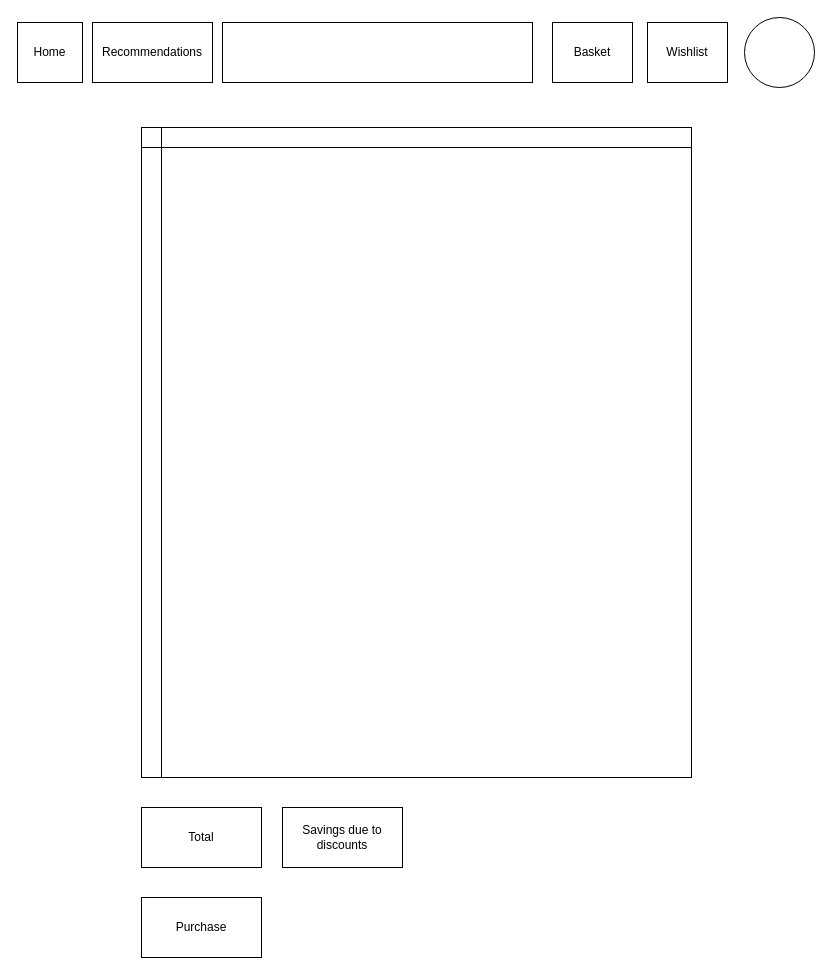
The diagram is 832 pixels wide and 975 high, and some of its shapes have lost their labels. The shapes that lost their labels are listed below. From the top down, each one's centre as x and y in pixels, then its label:
pixel 377 52: Search bar
pixel 779 52: User Profile
pixel 416 452: Purchases
